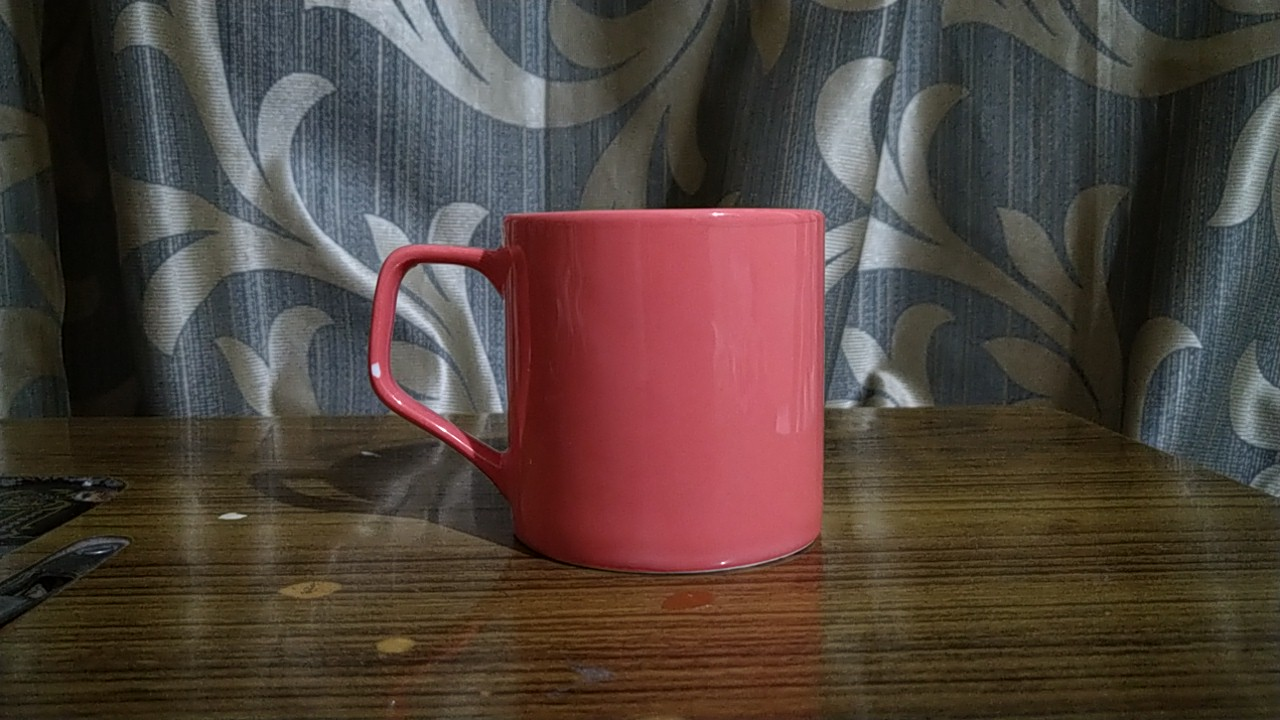cup: (347, 199, 856, 587)
